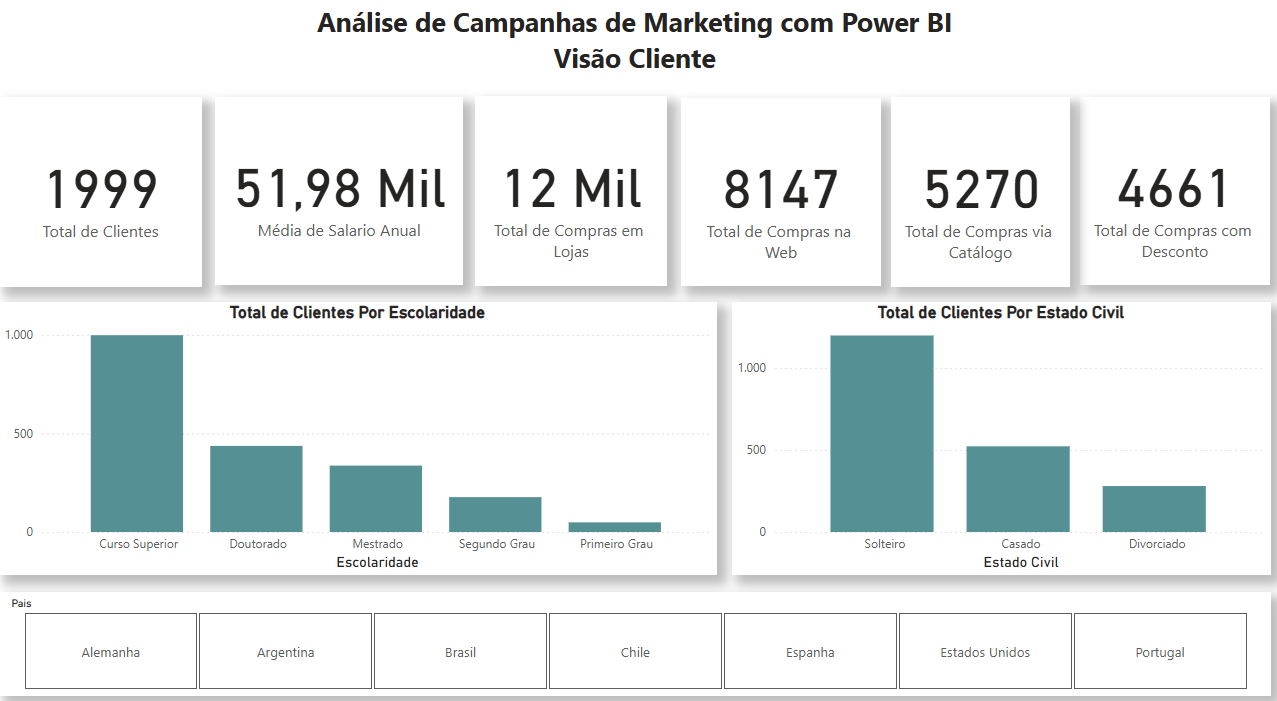

This screenshot's page, from the dashboard's own definition file:
{"tool":"powerbi","page":{"name":"Visão Cliente","canvas":[1280,720],"ordinal":0},"visuals":[{"type":"card","fields":{"Values":["CountNonNull(DadosMarketing.ID)"]},"box":[0,99,203.4,189.8],"z":0},{"type":"card","fields":{"Values":["Avg(DadosMarketing.Salario Anual)"]},"box":[215.6,99,248.1,188.5],"z":1000},{"type":"card","fields":{"Values":["Sum(DadosMarketing.Numero de Compras na Loja)"]},"box":[475.6,98.5,192.4,189.3],"z":2000},{"type":"card","fields":{"Values":["Sum(DadosMarketing.Numero de Compras na Web)"]},"box":[681.7,100,200,187.8],"z":3000},{"type":"card","fields":{"Values":["Sum(DadosMarketing.Numero de Compras com Desconto)"]},"box":[1080.7,99,189.8,188.5],"z":4000},{"type":"card","fields":{"Values":["Sum(DadosMarketing.Numero de Compras via Catalogo)"]},"box":[892.2,99,179,189.8],"z":5000},{"type":"textbox","box":[0,0,1271.9,88.1],"z":6000},{"type":"clusteredColumnChart","title":"Total de Clientes Por Escolaridade","fields":{"Category":["DadosMarketing.Escolaridade"],"Y":["CountNonNull(DadosMarketing.ID)"]},"box":[0,304.5,718,272.7],"z":7000},{"type":"clusteredColumnChart","title":"Total de Clientes Por Estado Civil","fields":{"Category":["DadosMarketing.Estado Civil"],"Y":["CountNonNull(DadosMarketing.ID)"]},"box":[733.2,304.5,539.3,272.7],"z":8000},{"type":"slicer","fields":{"Values":["DadosMarketing.Pais"]},"box":[0,593.9,1271.9,104.4],"z":9000}]}

Visuals, with their boxes in screenshot pixels (x1, y1, x2, y2), scaled from the page's 1280x720 canvas onto the 1277x701 screenshot:
card - CountNonNull(DadosMarketing.ID): [0, 96, 203, 281]
card - Avg(DadosMarketing.Salario Anual): [215, 96, 463, 280]
card - Sum(DadosMarketing.Numero de Compras na Loja): [474, 96, 666, 280]
card - Sum(DadosMarketing.Numero de Compras na Web): [680, 97, 880, 280]
card - Sum(DadosMarketing.Numero de Compras com Desconto): [1078, 96, 1268, 280]
card - Sum(DadosMarketing.Numero de Compras via Catalogo): [890, 96, 1069, 281]
textbox: [0, 0, 1269, 86]
"Total de Clientes Por Escolaridade" clusteredColumnChart: [0, 296, 716, 562]
"Total de Clientes Por Estado Civil" clusteredColumnChart: [731, 296, 1270, 562]
slicer - DadosMarketing.Pais: [0, 578, 1269, 680]
